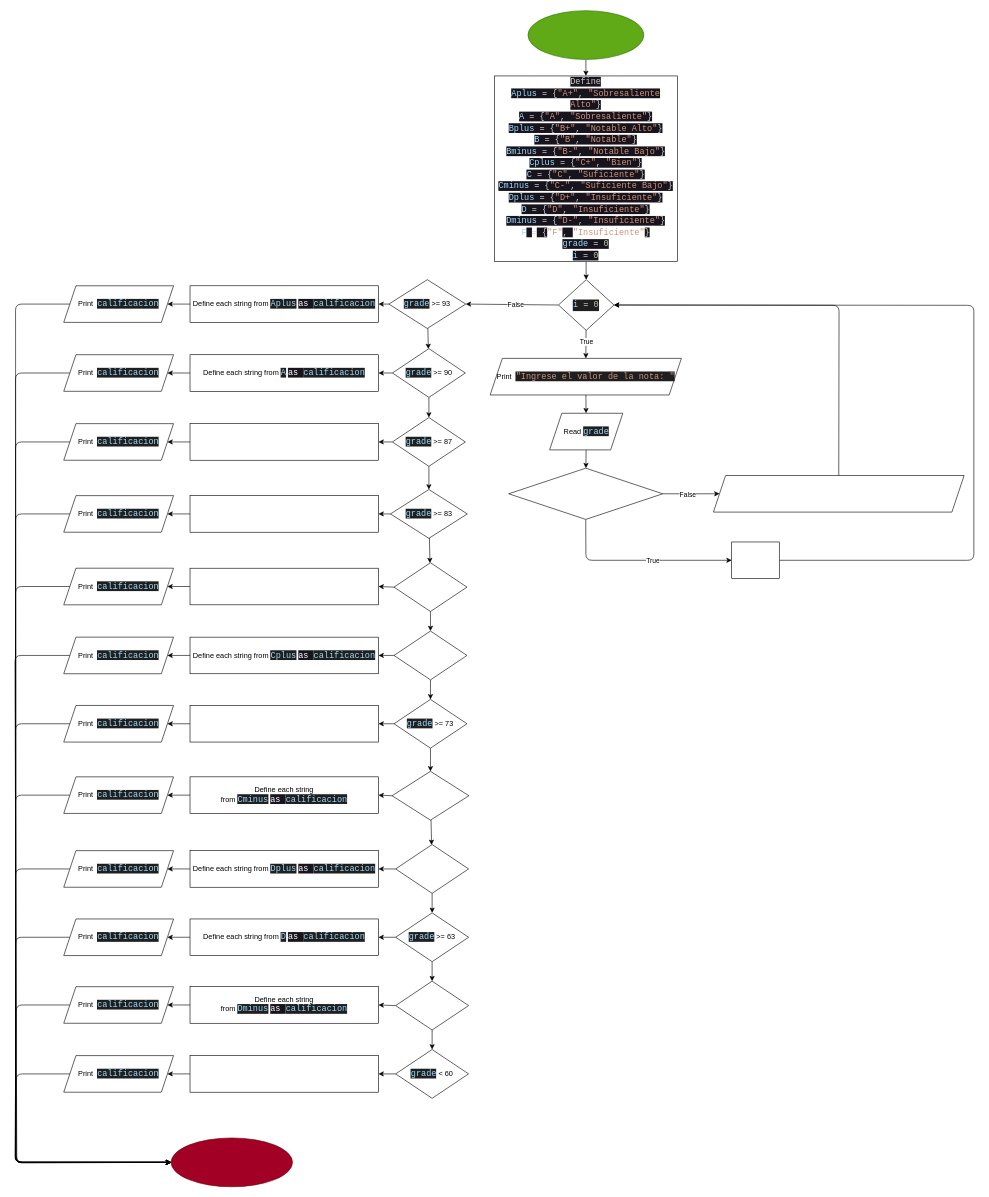
Image size: 989x1197. Some labels were removed from this diagram. The centre of each missing label's shape, as x and y in pixels:
Define each string from B as calificacion: [284,513]
Define each string from Bminus as calificacion: [284,586]
Define each string from Bplus as calificacion: [284,441]
Define each string from C as calificacion: [284,723]
Define each string from F as calificacion: [284,1073]
End: [231,1162]
grade >= 60: [432,1005]
grade >= 67: [432,868]
grade >= 70: [430,795]
grade >= 77: [430,655]
grade >= 80: [430,587]
grade is between 0 or 100?: [585,493]
i + 1: [755,560]
Print " ¡El valor debe estar entre 0 y 100! ": [838,493]
Start: [585,34]
